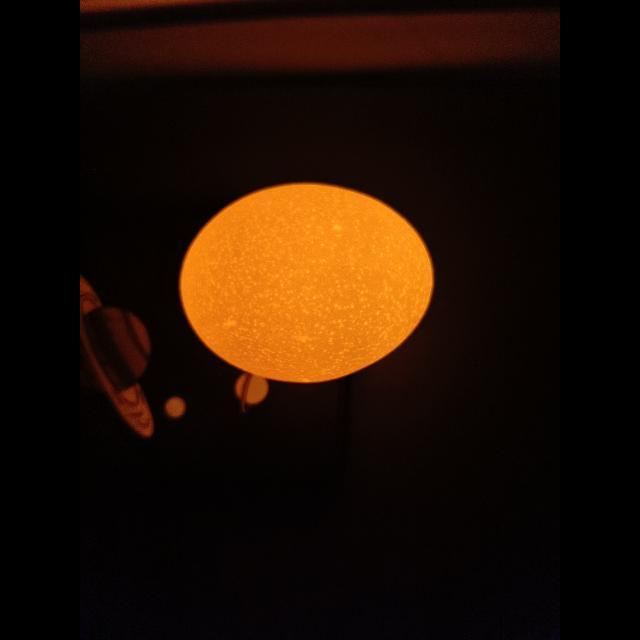AA - Premium: (180, 183, 434, 383)
